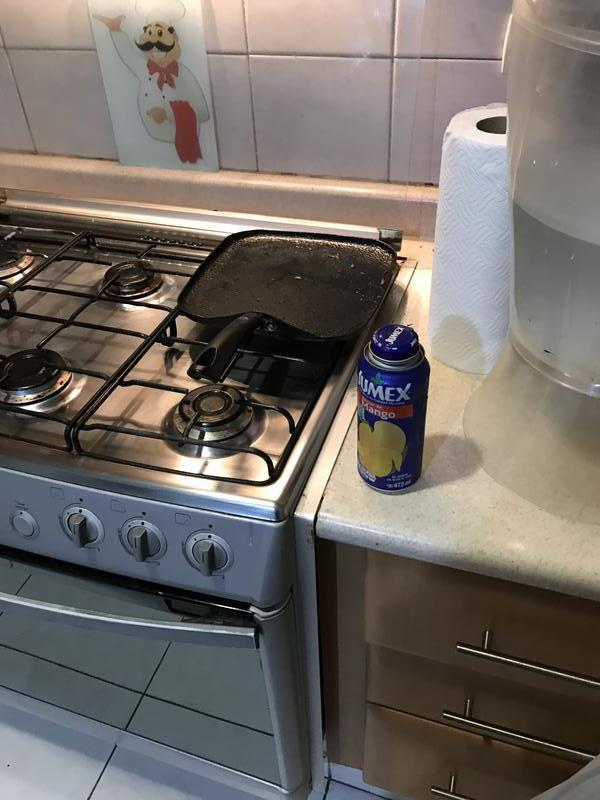jugo_jumex: (355, 325, 424, 492)
